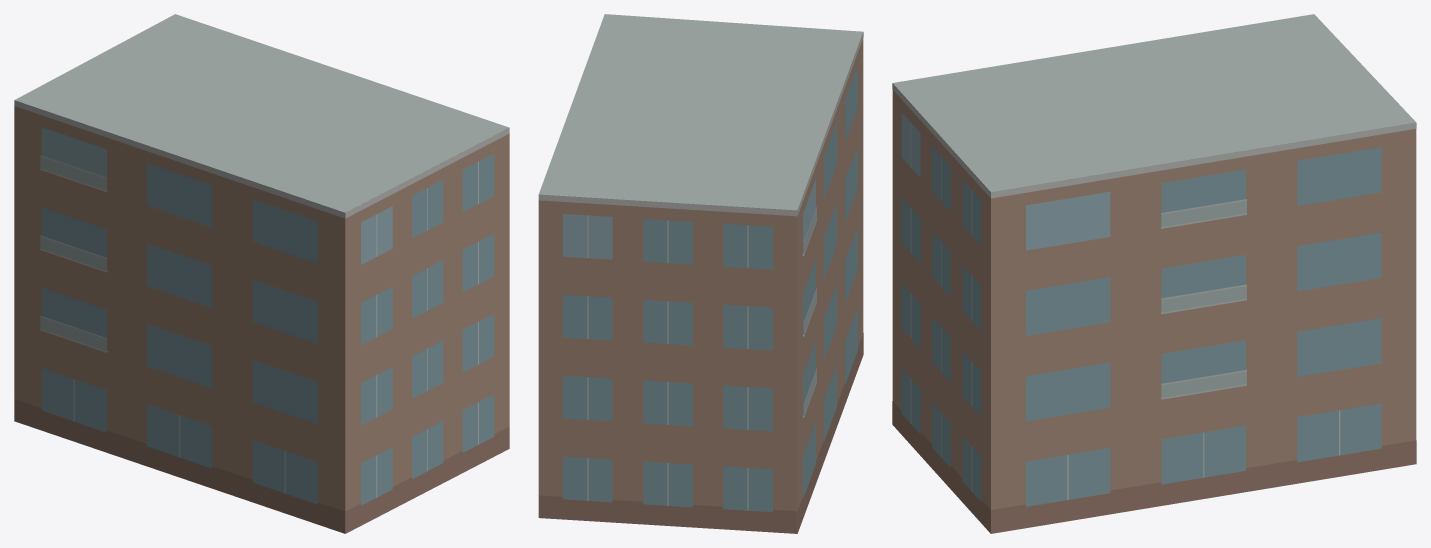
Rendered from survey-upis-32856071.glb.
3 renders of one model, left to right at view 1: azimuth 30°, elevation 25°; view 2: azimuth 150°, elevation 25°; view 3: azimuth 270°, elevation 25°, orthographic. The views are drawn at different scales.
Visible parts, largest first — view 1: survey-upis-32856071.tmp; view 2: survey-upis-32856071.tmp; view 3: survey-upis-32856071.tmp.
Part boxes in pixels (x1,y1,x2,y2): survey-upis-32856071.tmp: (14, 14, 509, 533); survey-upis-32856071.tmp: (538, 14, 863, 533); survey-upis-32856071.tmp: (892, 14, 1416, 533).
Bounding box in the file's own units: 15 × 13.4 × 18.64.
